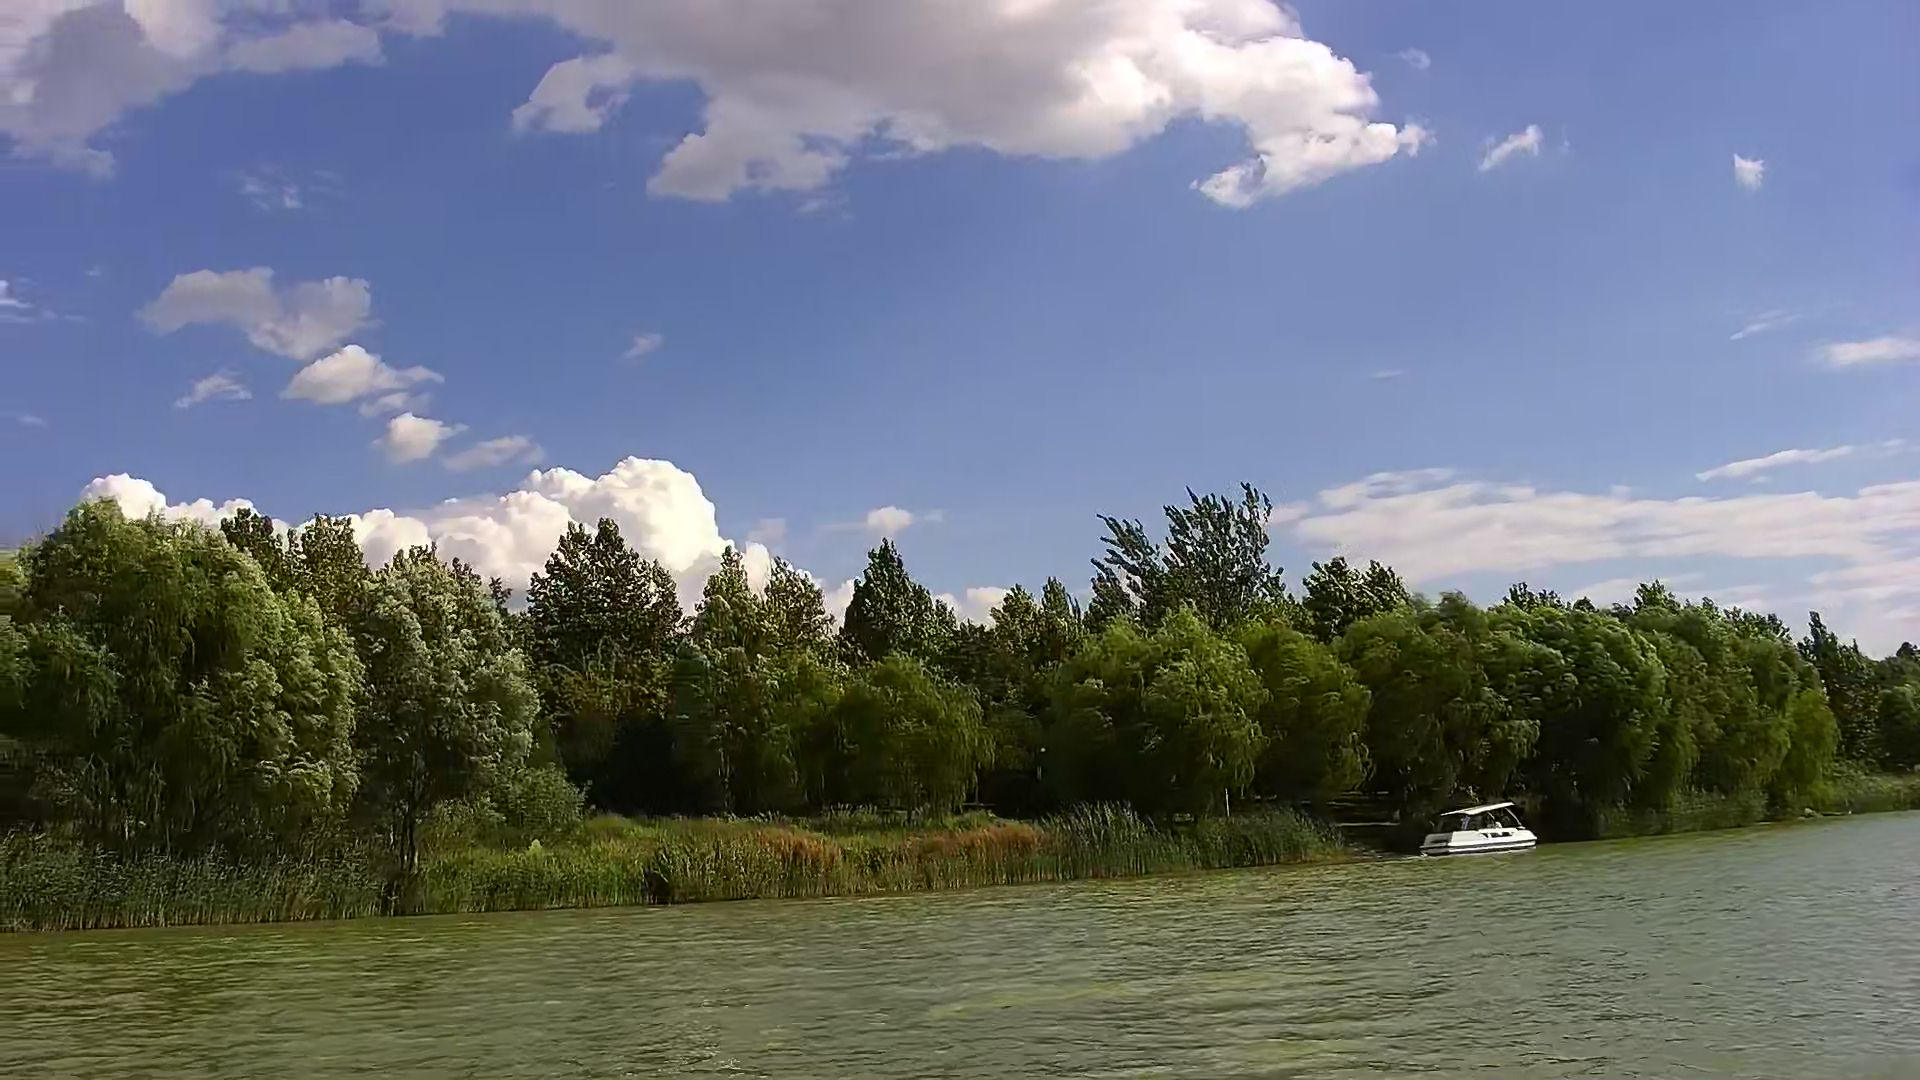boat: (1422, 802, 1540, 855)
